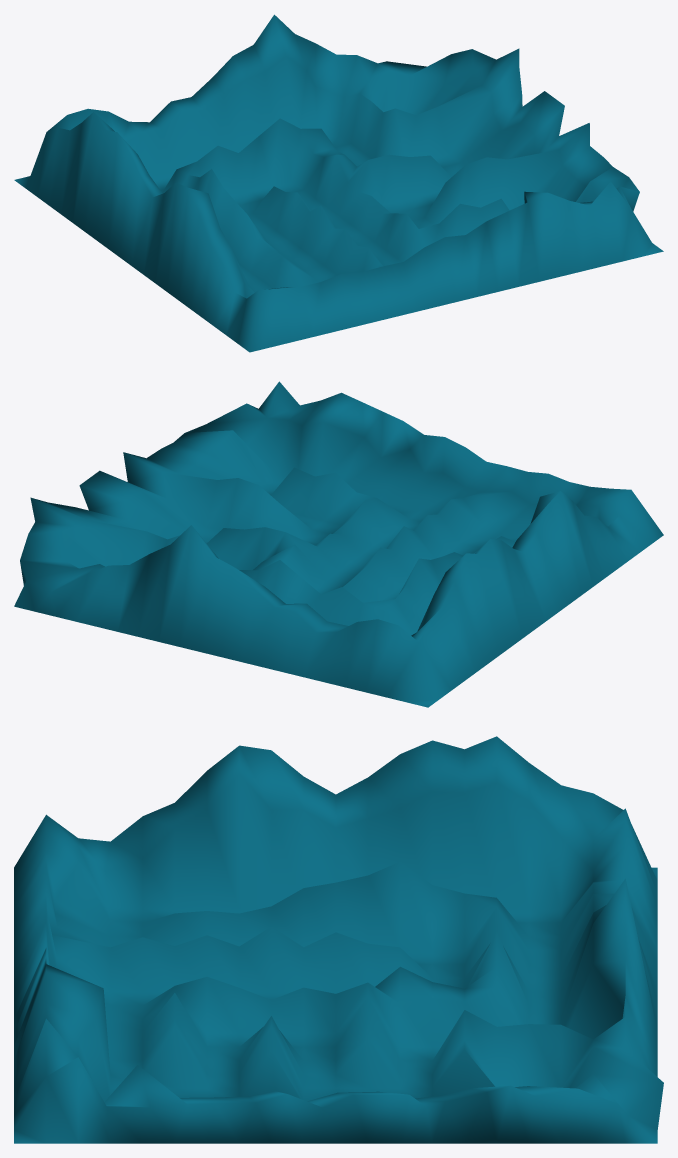
The model's file is terrain4.DAE.
3 views of the same model, one above another, from view 1: azimuth 30°, elevation 25°; view 2: azimuth 150°, elevation 25°; view 3: azimuth 270°, elevation 25° (orthographic). The views are drawn at different scales.
Visible parts, largest first — view 1: Plane001; view 2: Plane001; view 3: Plane001.
Part boxes in pixels (bbox=[...]): Plane001: bbox=[14, 14, 663, 352]; Plane001: bbox=[14, 381, 663, 707]; Plane001: bbox=[14, 736, 663, 1143].
Bounding box in the file's own units: 153 × 140 × 38.34.
